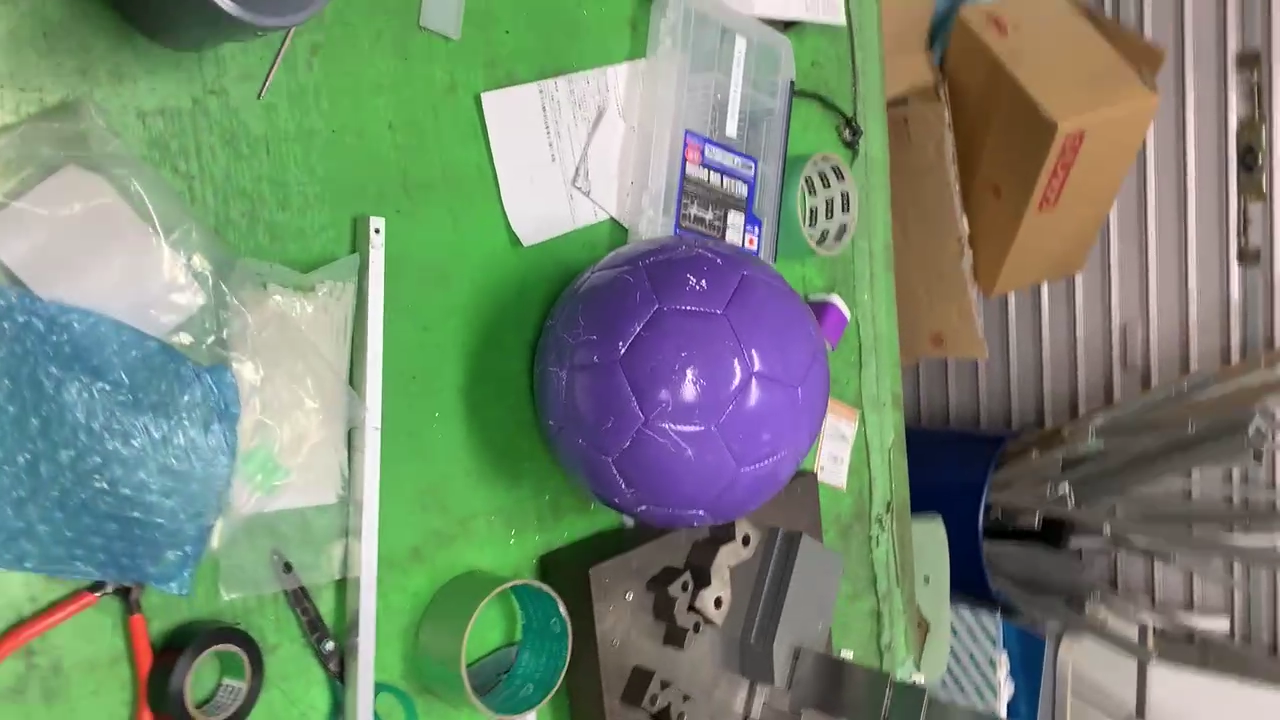purple: (529, 242, 828, 528)
